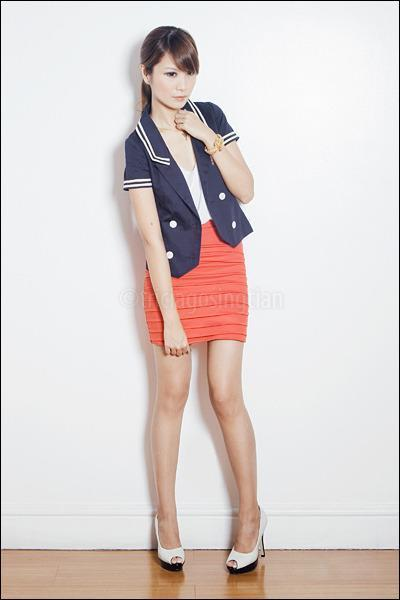shirt: (124, 102, 251, 278)
shoe: (158, 538, 257, 576)
skirt: (144, 220, 248, 347)
